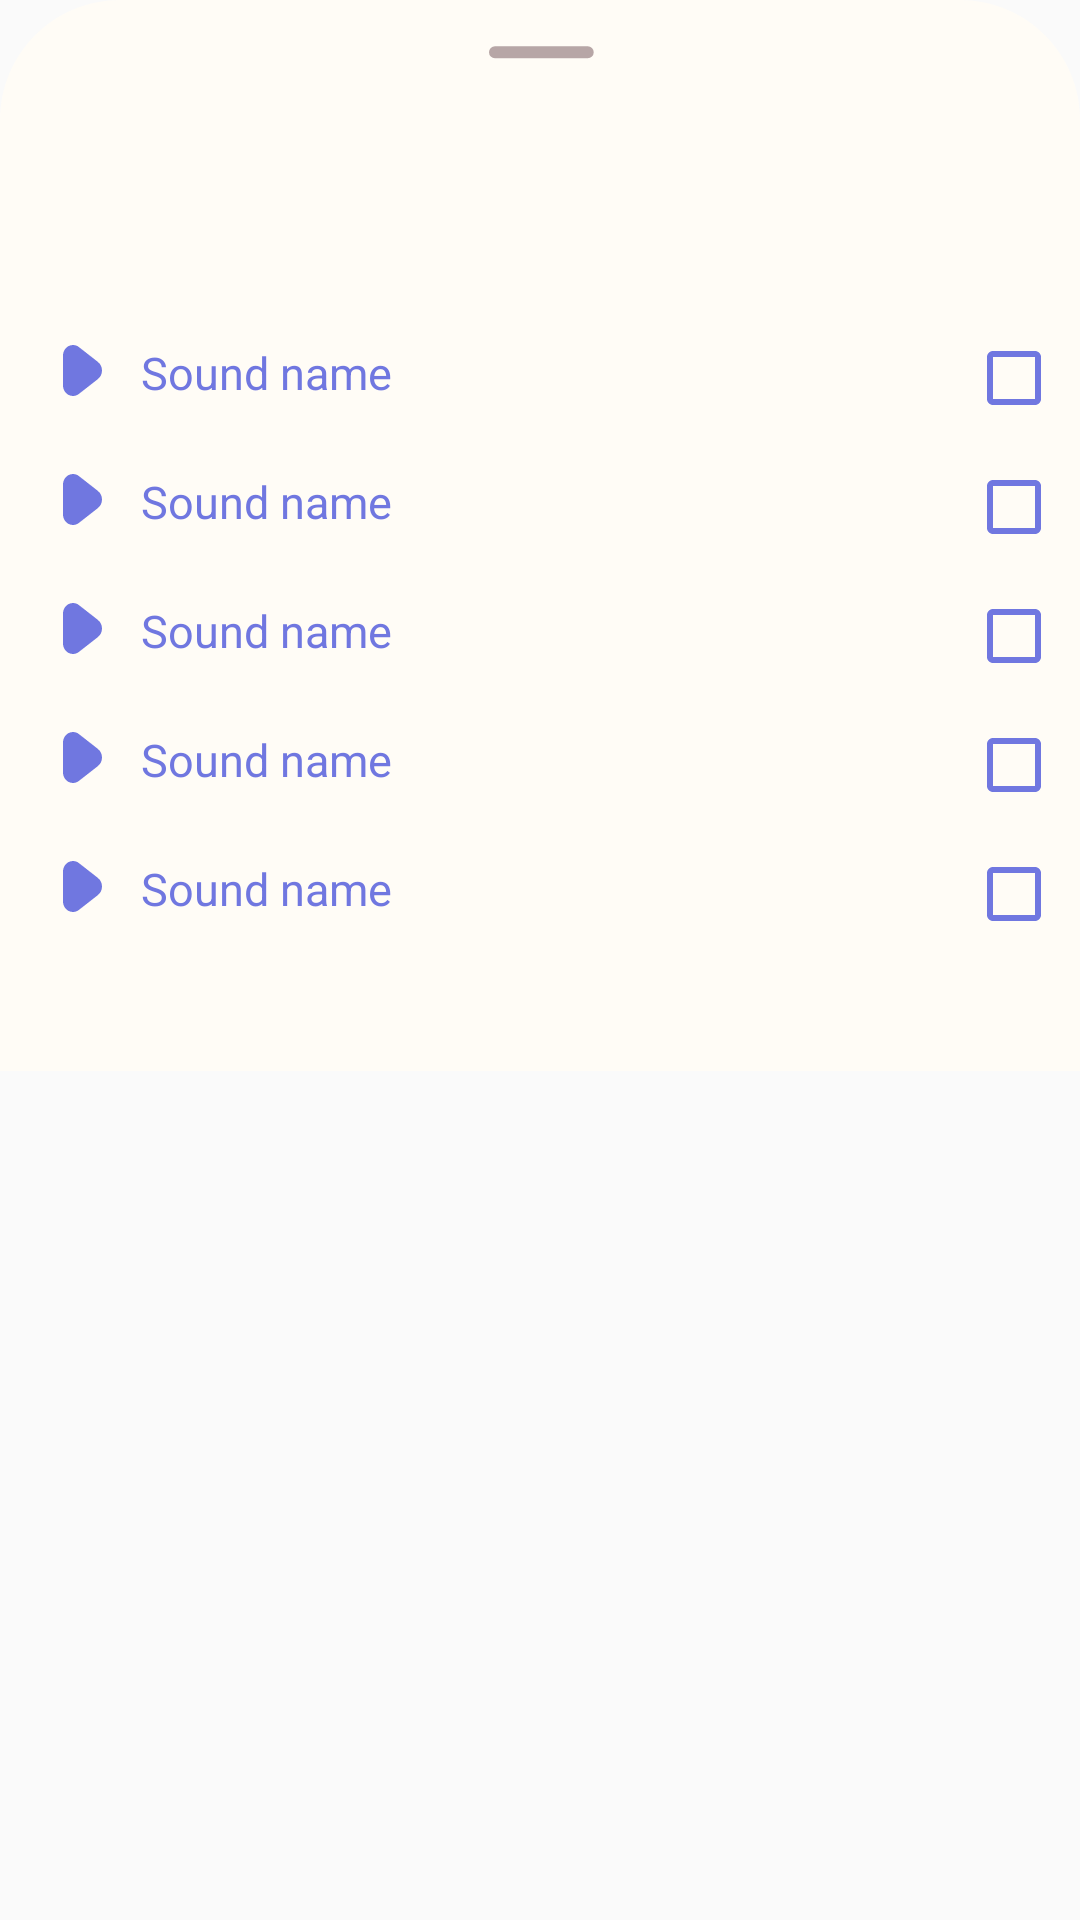

Named icons in this screenshot (1080x1920) and their centers, [x,y]:
sound play: [82,370], [82,499], [82,628], [82,757], [82,886]
